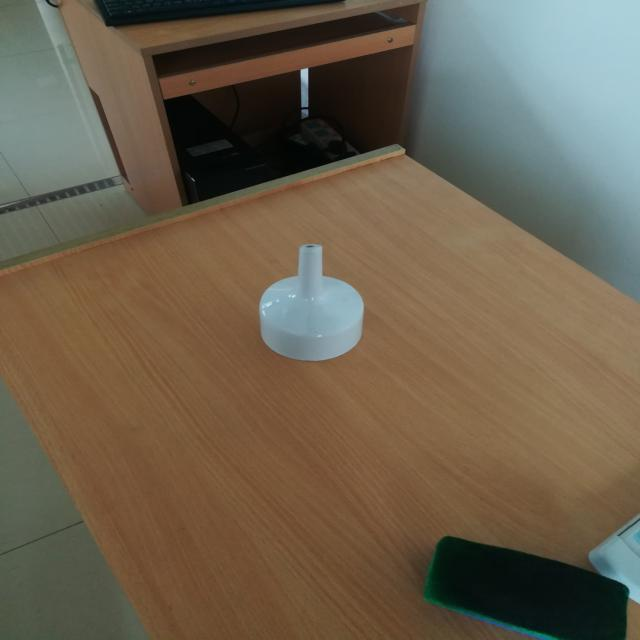Buchner_Funnel: (239, 223, 399, 379)
